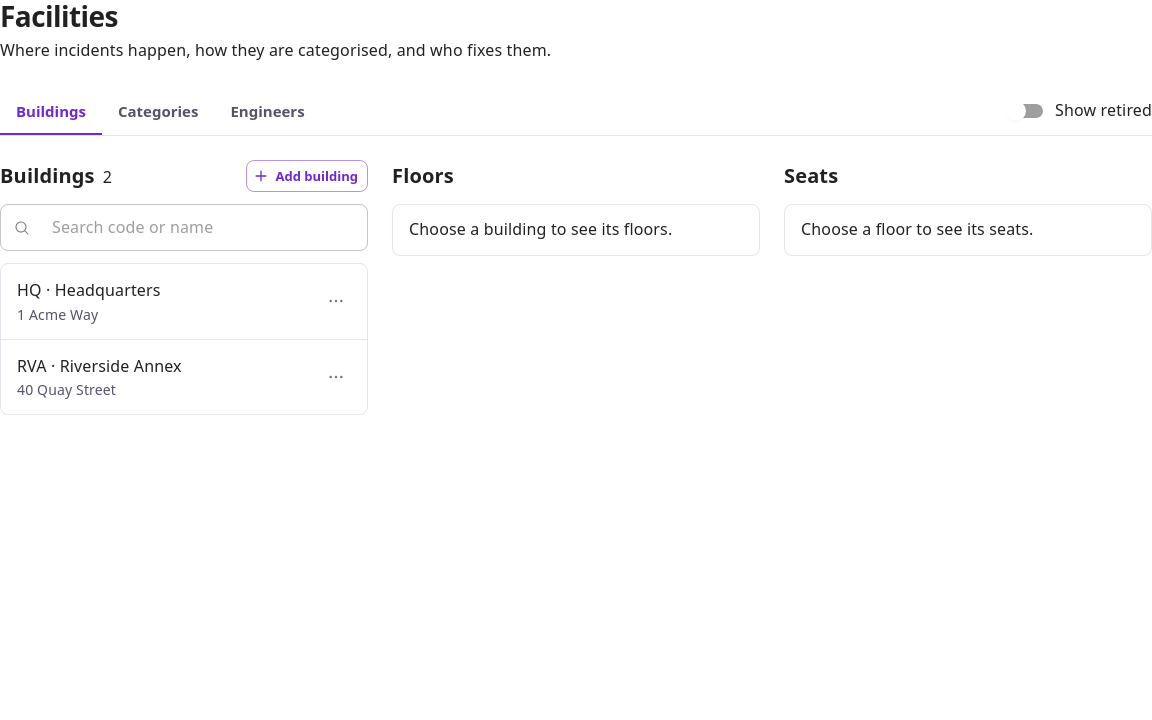
Test case: FacilitiesPage › retires from the row menu and shows a delete refusal inline
This screenshot has width=1152, height=720.
Expected: the text "HQ · Headquarters" is shown, [17, 278, 161, 304]
Click the button named "Actions for RVA · Riverside Annex" at (336,377), box [321, 362, 351, 392]
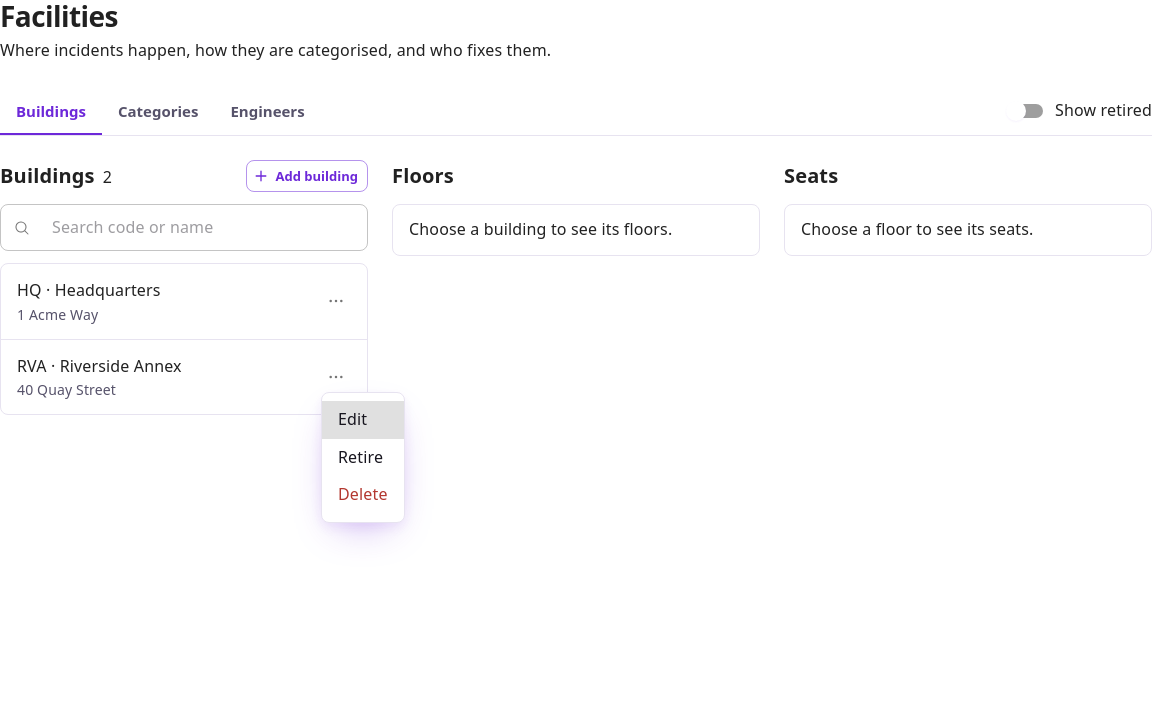
Click the menu item "Retire" at (361,457), box [338, 446, 383, 468]
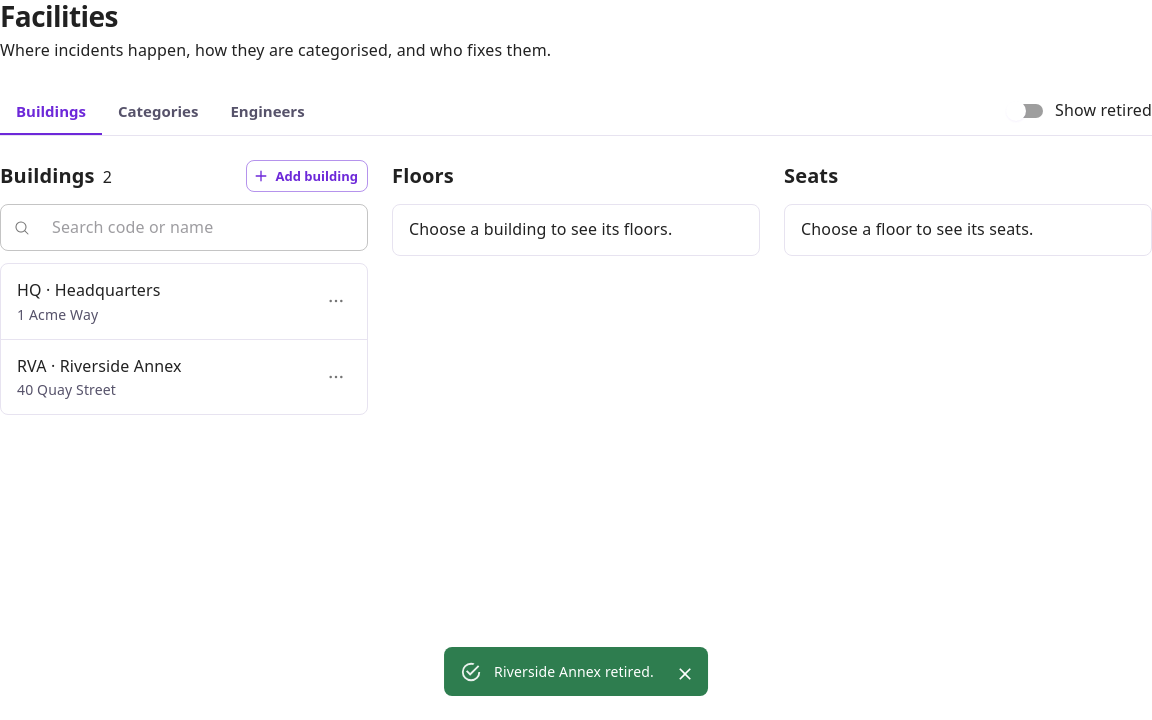
Now the text "Riverside Annex retired." is shown, box [494, 662, 654, 681]
Click the button named "Actions for HQ · Headquarters" at (336,302), box [321, 286, 351, 316]
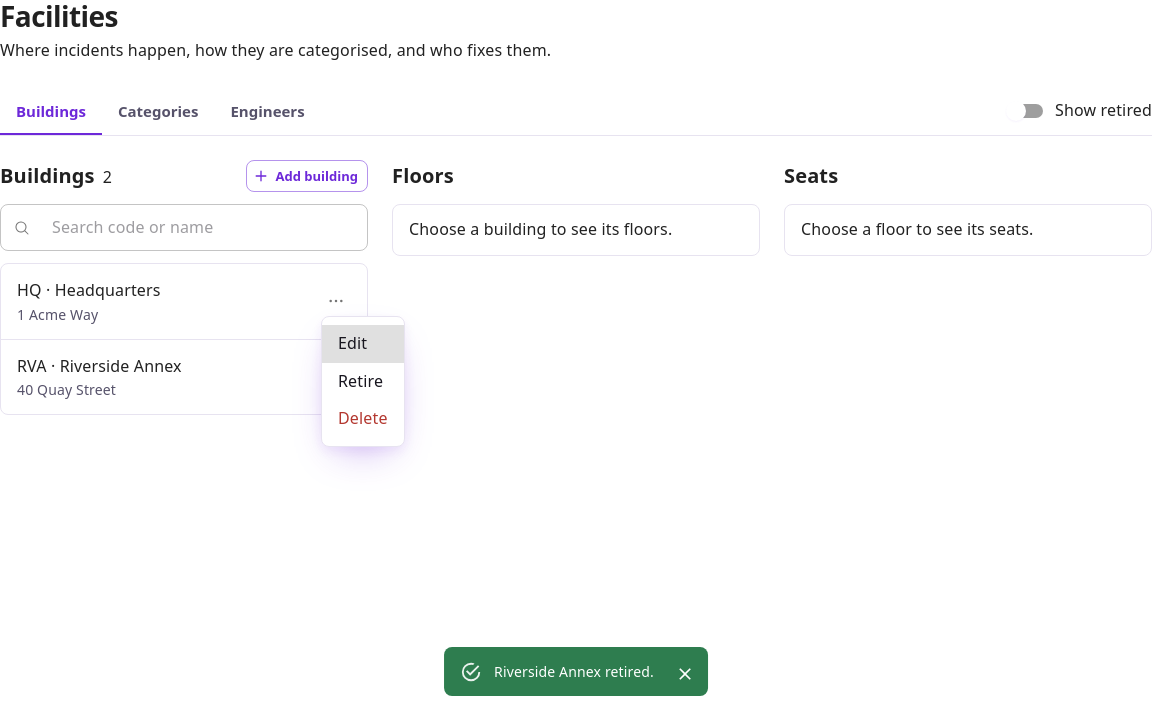
Click the menu item "Delete" at (363,418), box [338, 407, 388, 429]
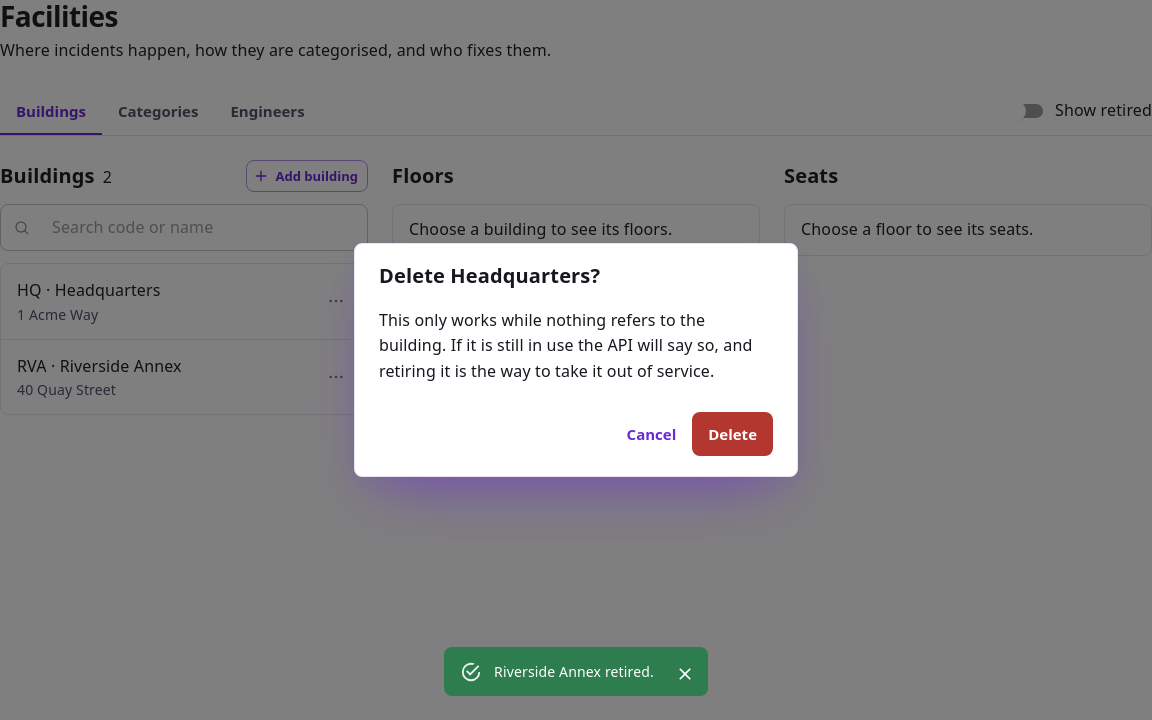
Now the heading "Delete Headquarters?" is shown, box [379, 262, 600, 289]
Click the button "Delete" at (733,434), box [692, 412, 773, 456]
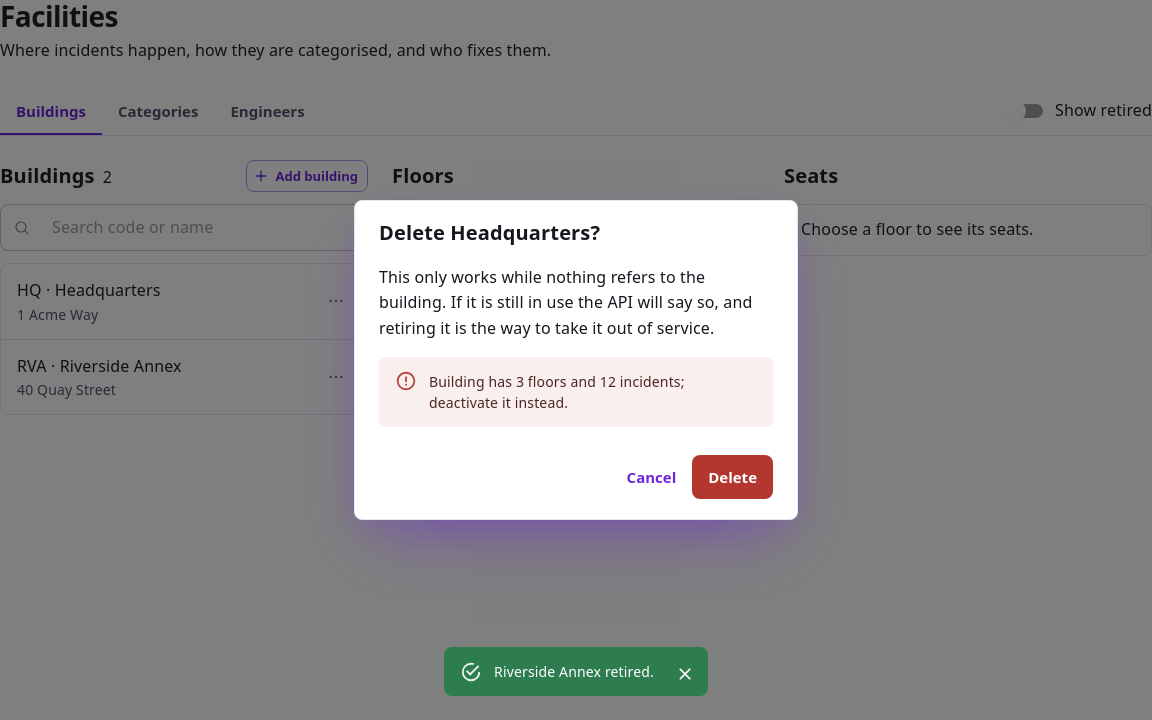
Now the message "Building has 3 floors and 12 incidents; deactivate it instead." is shown, box [379, 357, 773, 427]
